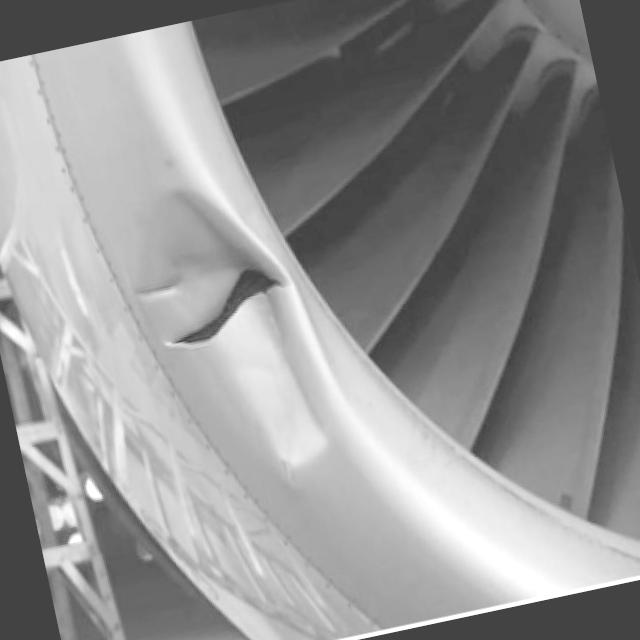crack: (146, 248, 300, 364)
